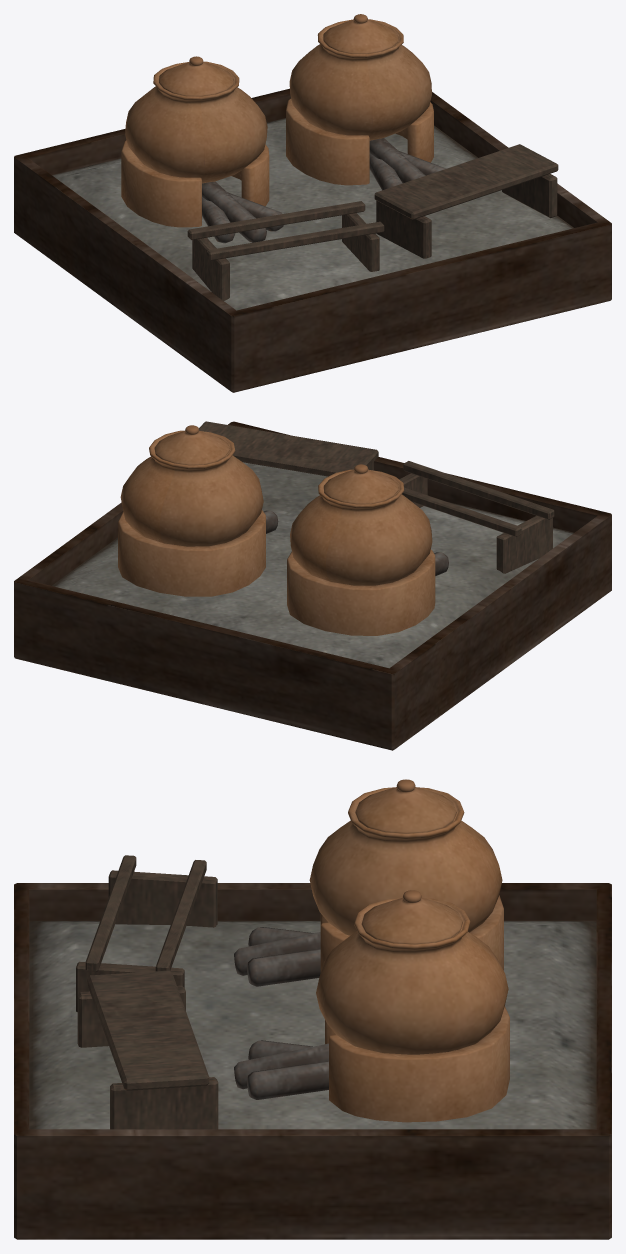
The model's file is prop6.glb.
3 renders of one model, top to bottom at view 1: azimuth 30°, elevation 25°; view 2: azimuth 150°, elevation 25°; view 3: azimuth 270°, elevation 25°, orthographic. The views are drawn at different scales.
Visible parts, largest first — view 1: Object_24.001; view 2: Object_24.001; view 3: Object_24.001.
Part boxes in pixels (<box>): Object_24.001: <box>14,14,611,392</box>; Object_24.001: <box>14,421,611,750</box>; Object_24.001: <box>14,779,611,1239</box>.
Bounding box in the file's own units: 1.58 × 0.8118 × 1.58.
2 materials, 2 textured.
